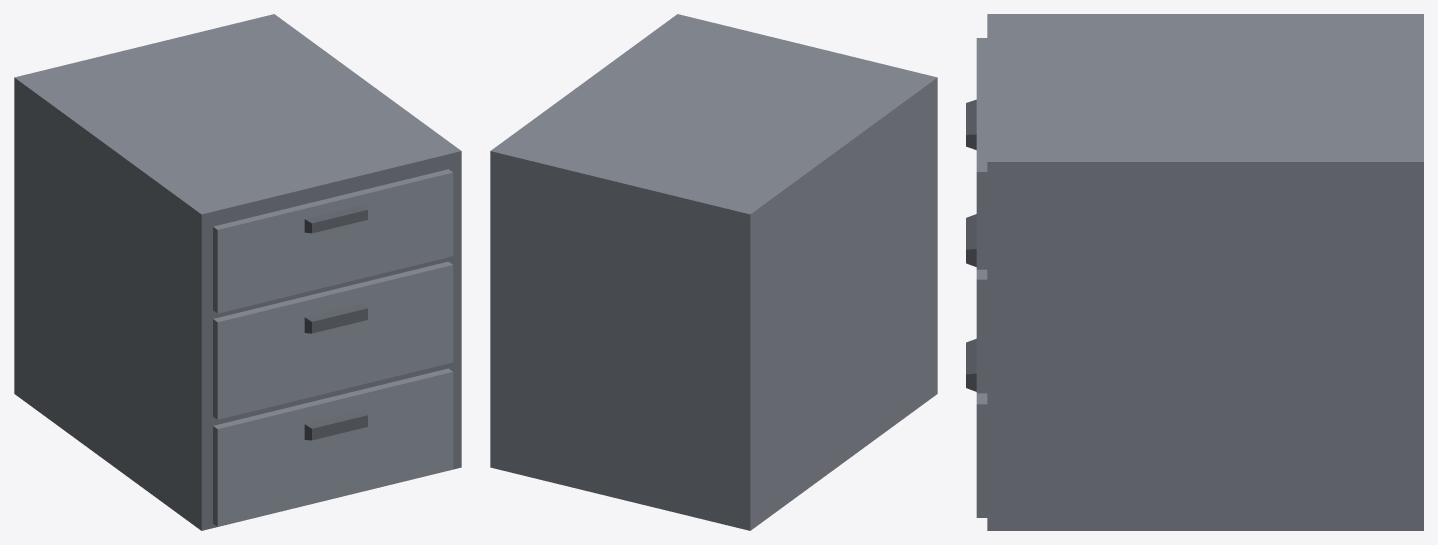
Rendered from SM_Prop_Cabinet_03.fbx.
3 views of the same model, side by side, from view 1: azimuth 30°, elevation 25°; view 2: azimuth 150°, elevation 25°; view 3: azimuth 270°, elevation 25° (orthographic). The views are drawn at different scales.
Visible parts, largest first — view 1: SM_Prop_Cabinet_03; view 2: SM_Prop_Cabinet_03; view 3: SM_Prop_Cabinet_03.
Boxes of the visible parts, x1=… form: SM_Prop_Cabinet_03: x1=14, y1=14, x2=461, y2=530; SM_Prop_Cabinet_03: x1=490, y1=14, x2=937, y2=530; SM_Prop_Cabinet_03: x1=966, y1=14, x2=1423, y2=530.
Bounding box in the file's own units: 65.06 × 75.68 × 85.1.
1 material, 1 textured.
